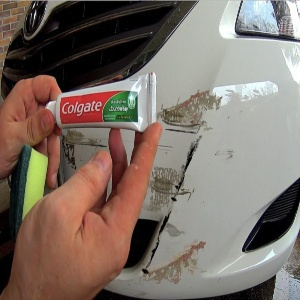bumper_scratch: (161, 90, 243, 286)
